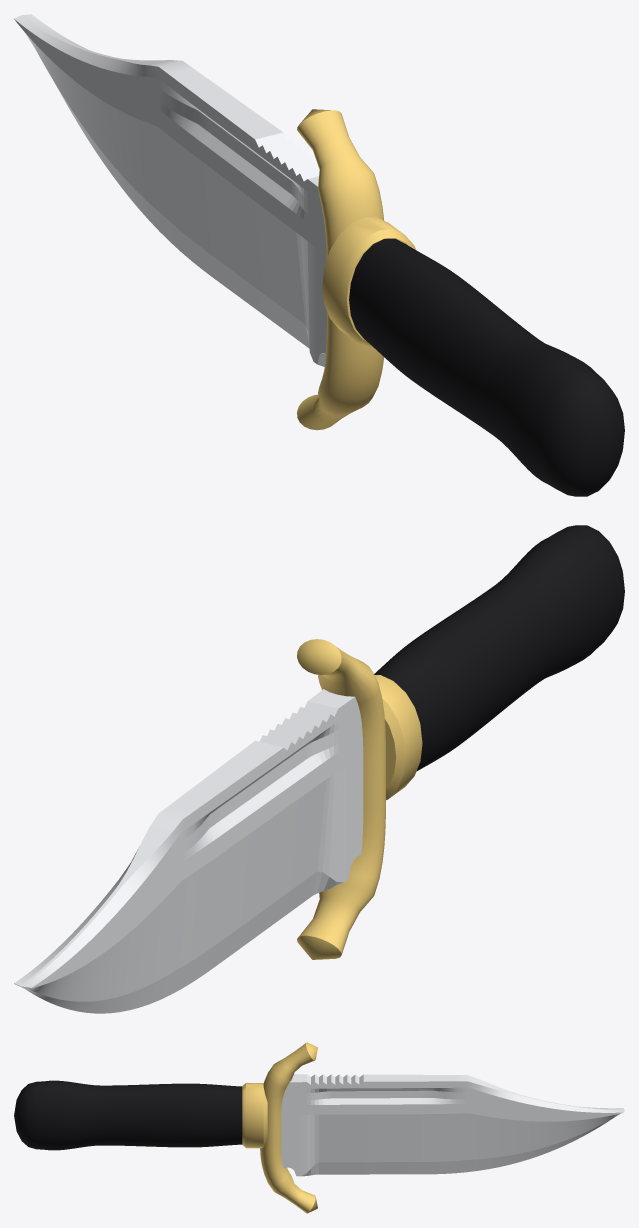
File: Knife_Combined.fbx
3 views of the same model, one above another, from view 1: azimuth 30°, elevation 25°; view 2: azimuth 150°, elevation 25°; view 3: azimuth 270°, elevation 25° (orthographic). The views are drawn at different scales.
Parts seen in each view (by area): view 1: Knife; view 2: Knife; view 3: Knife.
Part boxes in pixels (<box>): Knife: <box>14,14,624,496</box>; Knife: <box>14,525,624,1013</box>; Knife: <box>14,1042,624,1213</box>.
Bounding box in the file's own units: 25.92 × 94.17 × 311.
